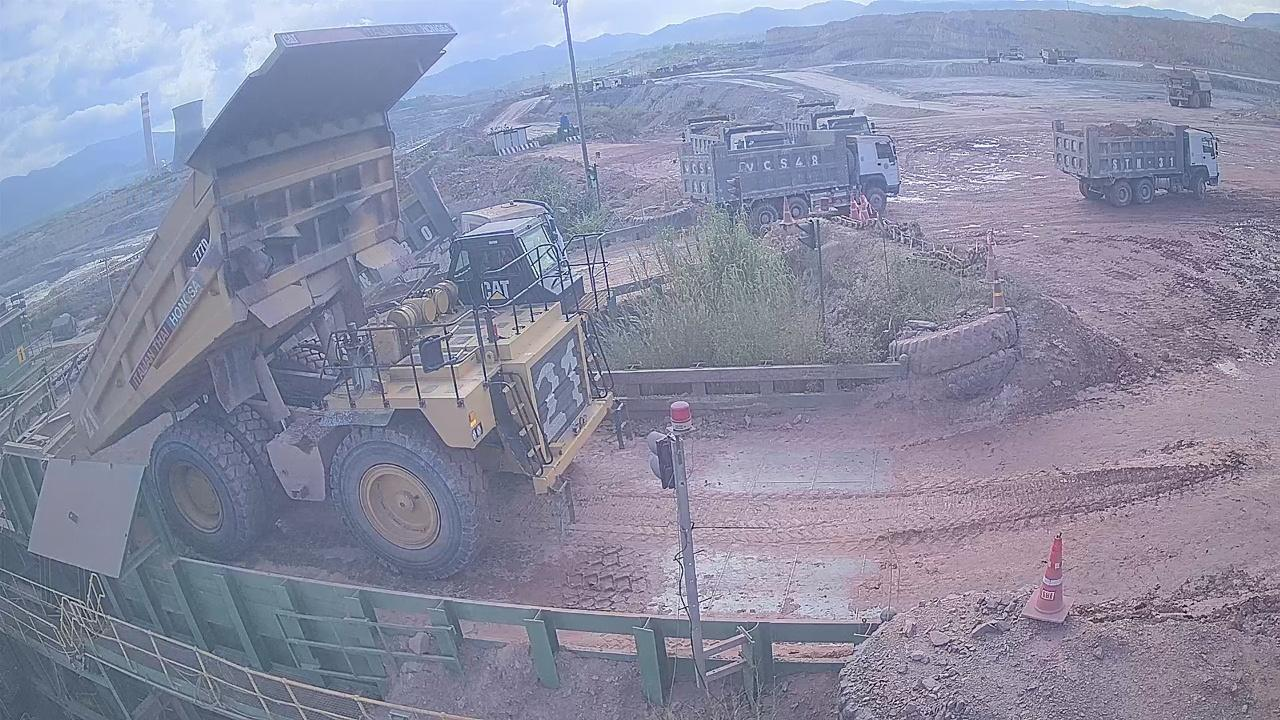company: (130, 276, 201, 396)
dumping_soil: (72, 14, 637, 583)
front_number: (529, 323, 588, 448)
tail_number: (77, 408, 101, 444)
truck_size: (174, 228, 217, 270)
